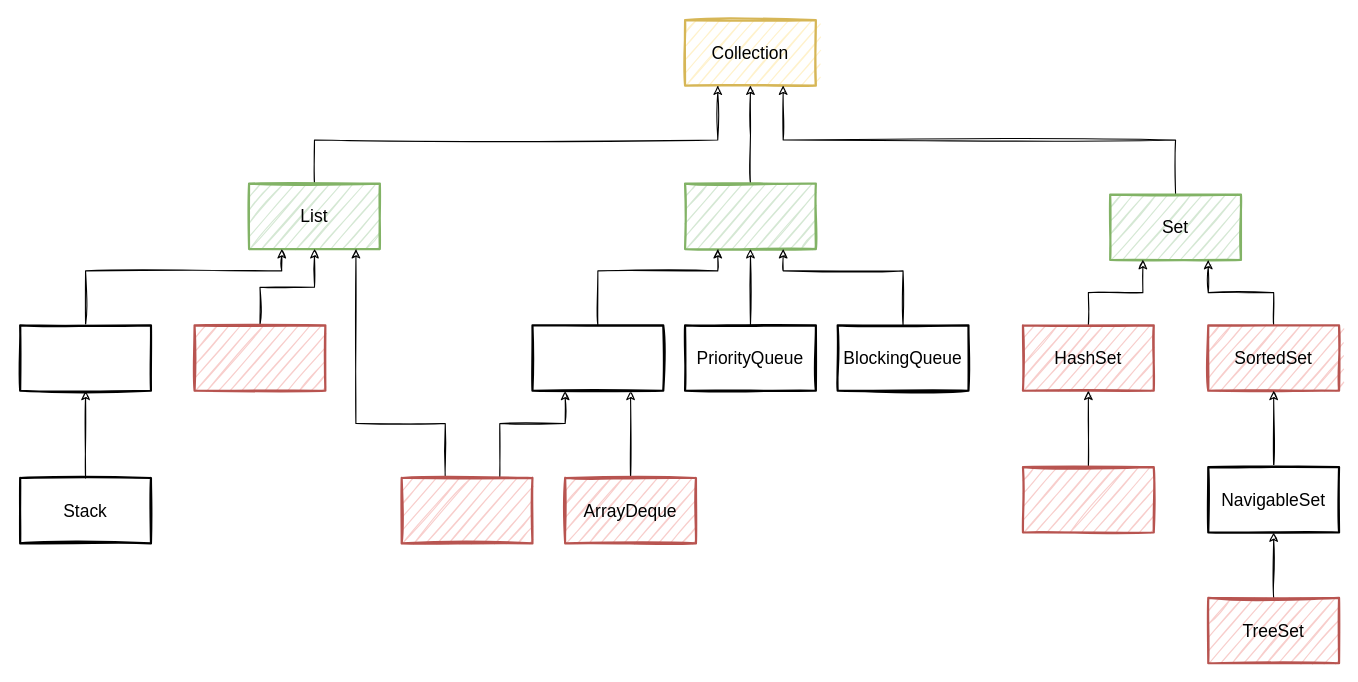
The diagram is 1358 pixels wide and 682 high, and some of its shapes have lost their labels. Here are the shapes that lost their labels. From the top down, the centre of each, then its label:
At point 749,216: "Queue".
At point 85,357: "Vector".
At point 259,357: "ArrayList".
At point 597,357: "Deque".
At point 466,510: "LinkedList".
At point 1087,499: "LinkedHashSet".
